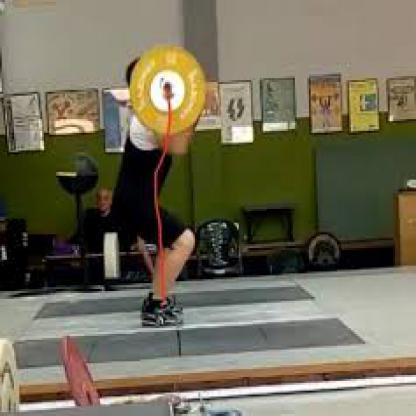barbell: (130, 41, 206, 140)
